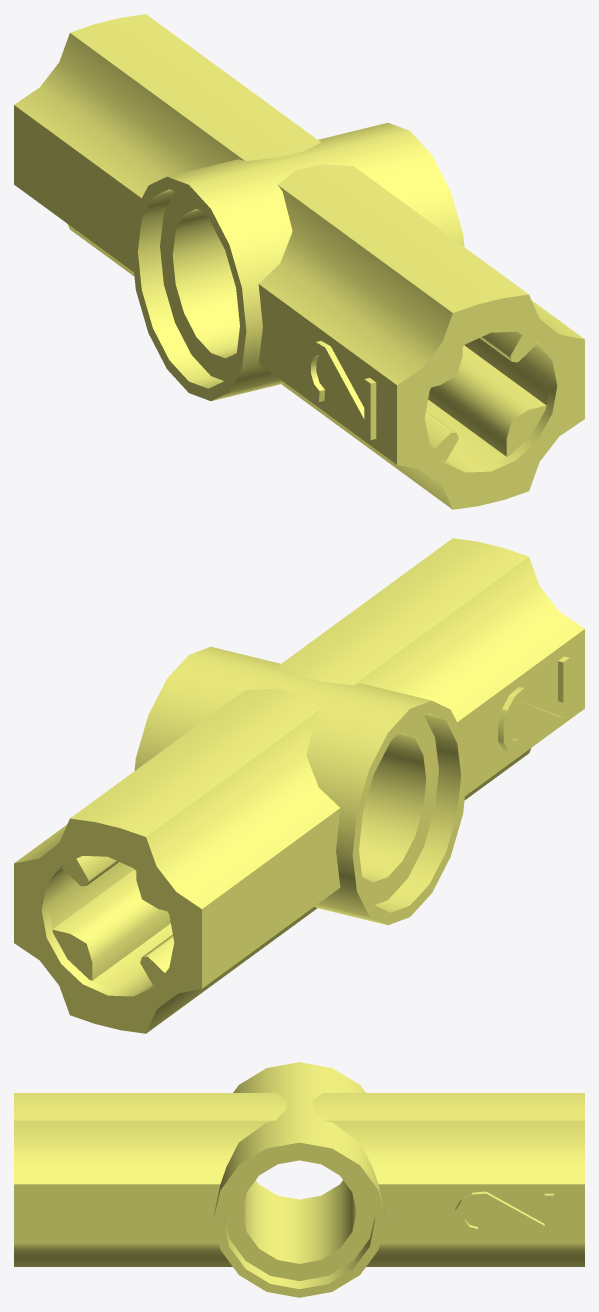
The picture shows the model from 3 angles, top to bottom: view 1: azimuth 30°, elevation 25°; view 2: azimuth 150°, elevation 25°; view 3: azimuth 270°, elevation 25°; orthographic projection. The views are drawn at different scales.
Visible parts, largest first — view 1: 32034.dat; view 2: 32034.dat; view 3: 32034.dat.
Part boxes in pixels (bbox=[...]): 32034.dat: bbox=[14, 14, 584, 509]; 32034.dat: bbox=[14, 538, 584, 1033]; 32034.dat: bbox=[14, 1062, 584, 1297].
Size of the model in its own units: 0.008 by 0.0072 by 0.024.
